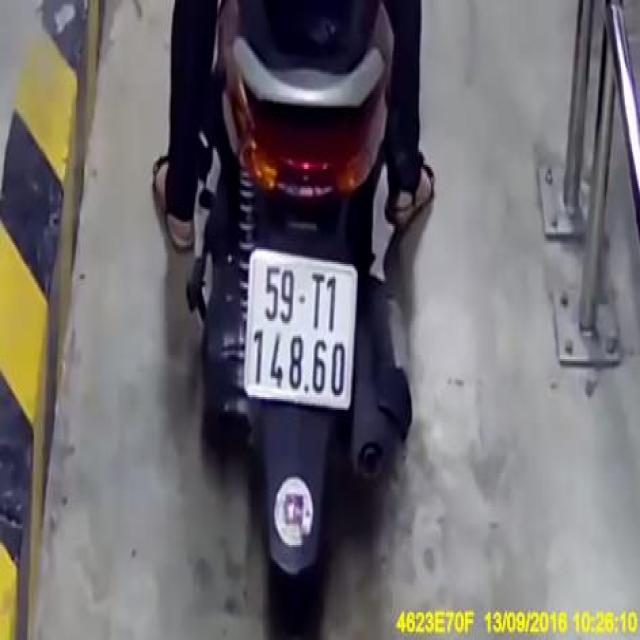0: (331, 342, 346, 401)
1: (326, 270, 341, 333), (253, 327, 267, 387)
4: (269, 332, 285, 389)
5: (264, 261, 280, 318)
6: (310, 338, 329, 394)
8: (287, 331, 303, 394)
9: (279, 268, 296, 324)
T: (308, 268, 329, 332)
